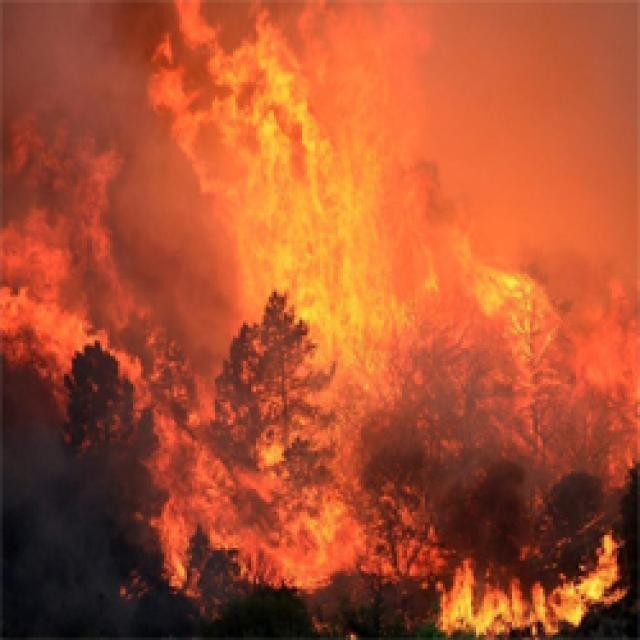Fire: (116, 0, 437, 381), (114, 360, 402, 602), (434, 184, 604, 368), (0, 183, 124, 424), (420, 510, 640, 640)
Smoke: (0, 0, 252, 305), (325, 0, 640, 218), (402, 320, 640, 458)
